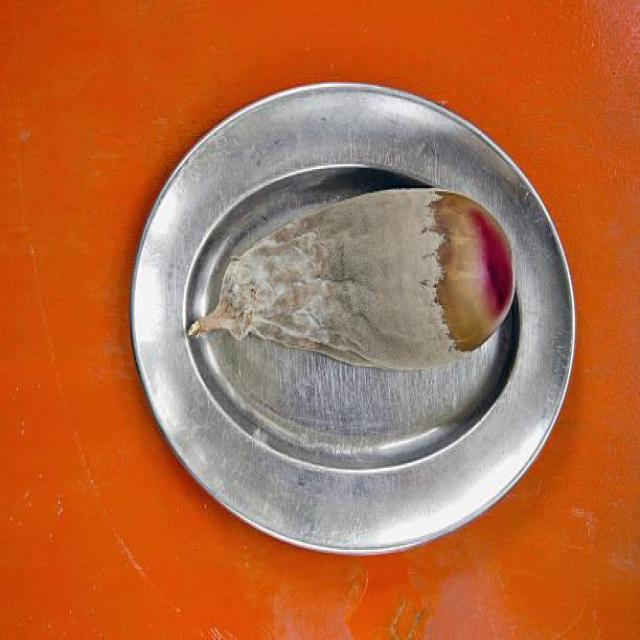eggplant: (186, 187, 514, 368)
